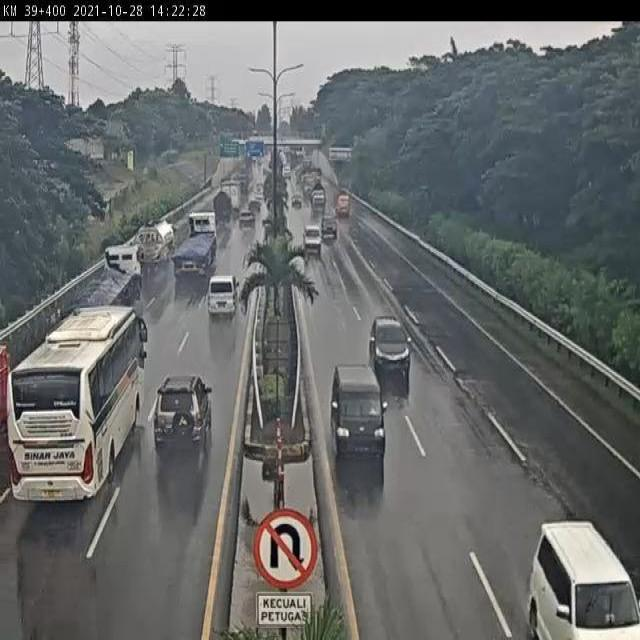big bus: (42, 308, 148, 477)
big truck: (103, 247, 142, 304), (183, 208, 216, 267)
car: (516, 514, 640, 640), (320, 367, 387, 465), (153, 372, 209, 453), (364, 314, 410, 374), (208, 274, 239, 318), (299, 224, 320, 257), (321, 216, 339, 241), (241, 212, 263, 231), (248, 192, 263, 213), (251, 186, 264, 206)
small truck: (133, 205, 170, 264), (211, 191, 232, 224), (335, 189, 353, 216)
